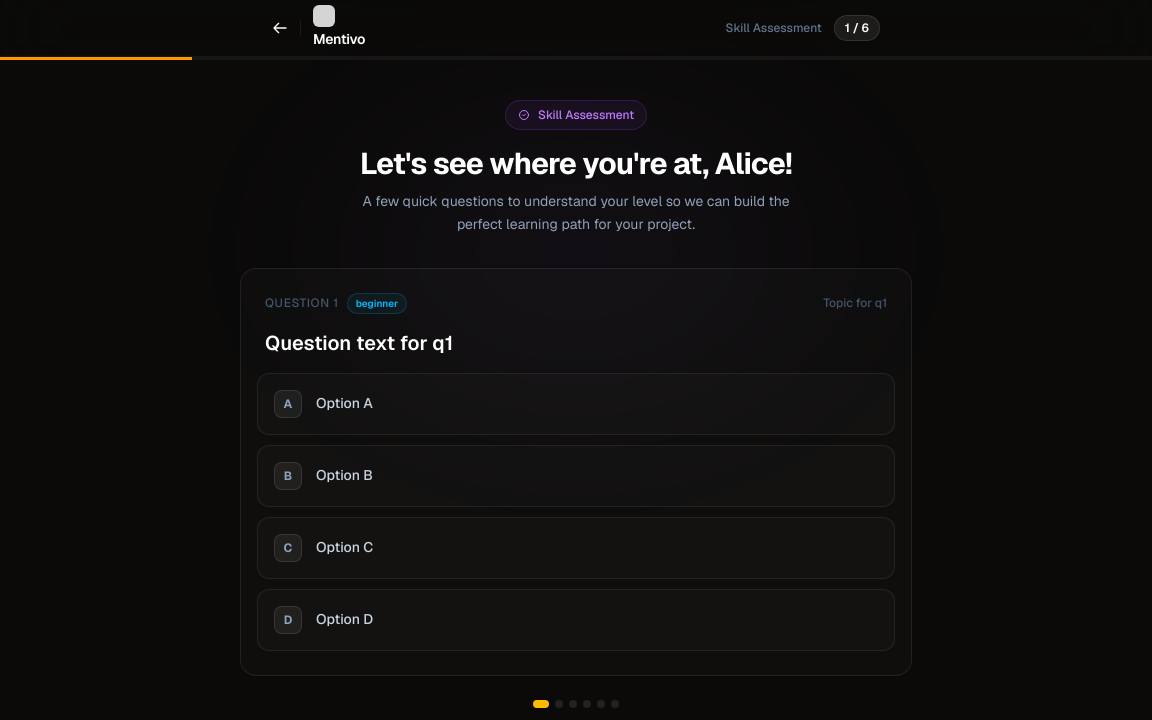
Test: QuizView › shows "Good to know:" when a wrong option is selected
Step 1. Click the text "Option B" → (344, 476), box x1=316 y1=466 x2=373 y2=486
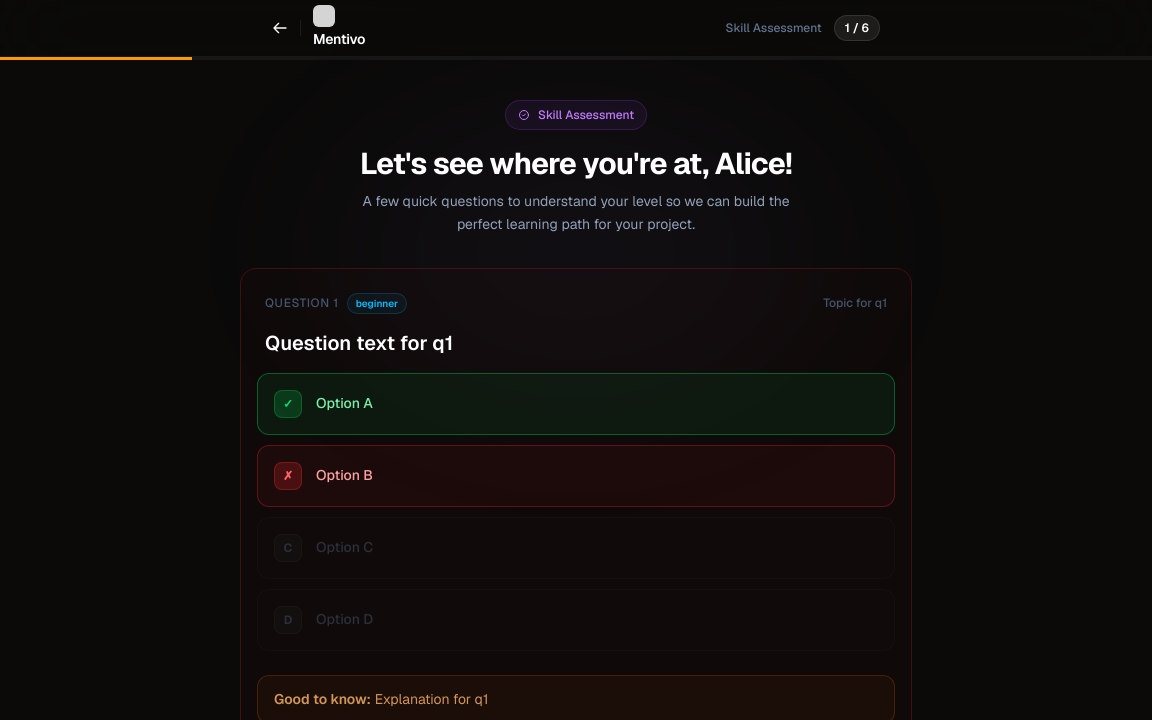
Result: the text "Good to know:" is shown at x1=274 y1=690 x2=371 y2=708
